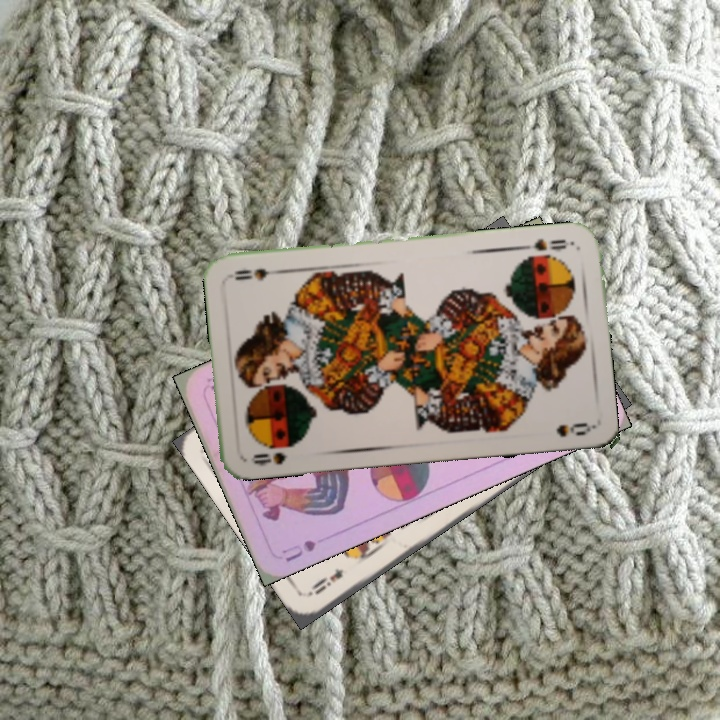E9: (305, 564, 346, 598)
SO: (517, 234, 569, 254), (247, 448, 290, 468)
SU: (277, 535, 319, 564)
